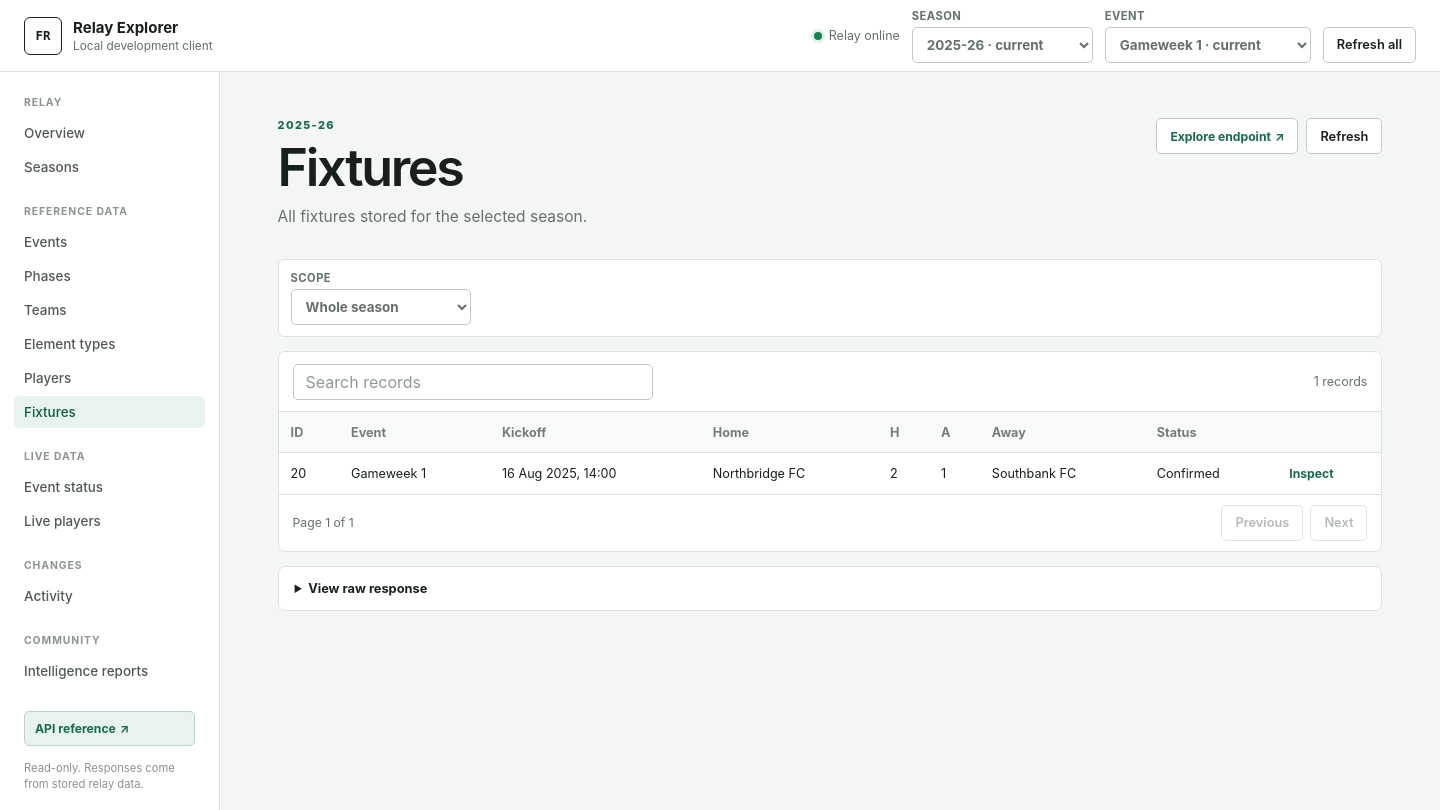
relay explorer application › switches fixtures to the selected event endpoint
The width and height of the screenshot is (1440, 810).
expect the text "Northbridge FC" is shown: met, box [701,452,878,494]
Select "Selected event" in the dropdown labelled "Scope" at (381, 307), box [291,289,471,325]
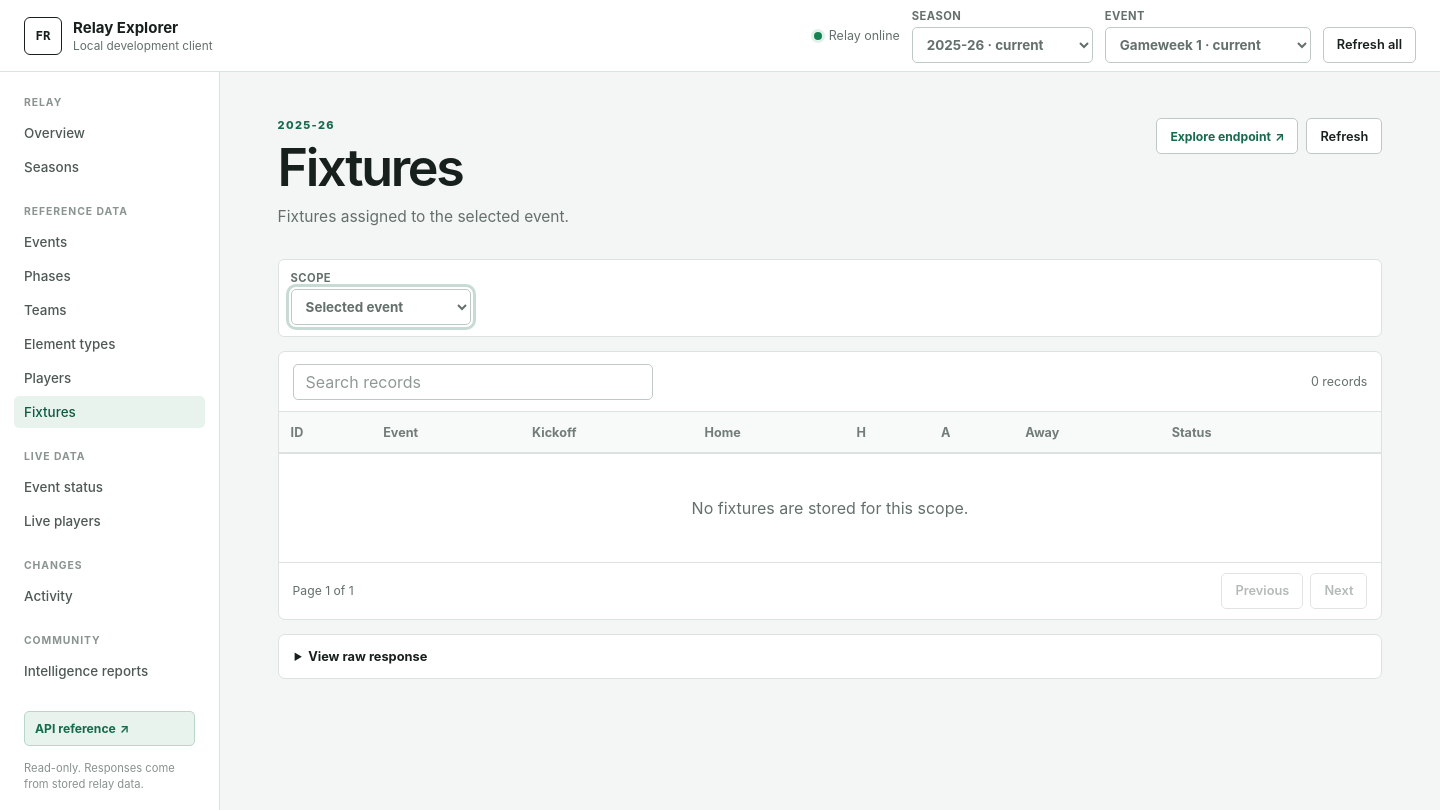
expect the text "No fixtures are stored for this scope." is shown: met, box [279,453,1381,562]
